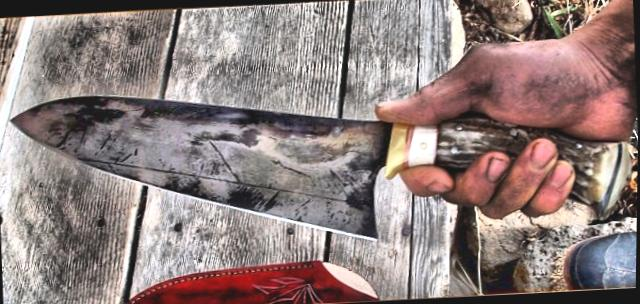knife: (0, 41, 493, 267)
